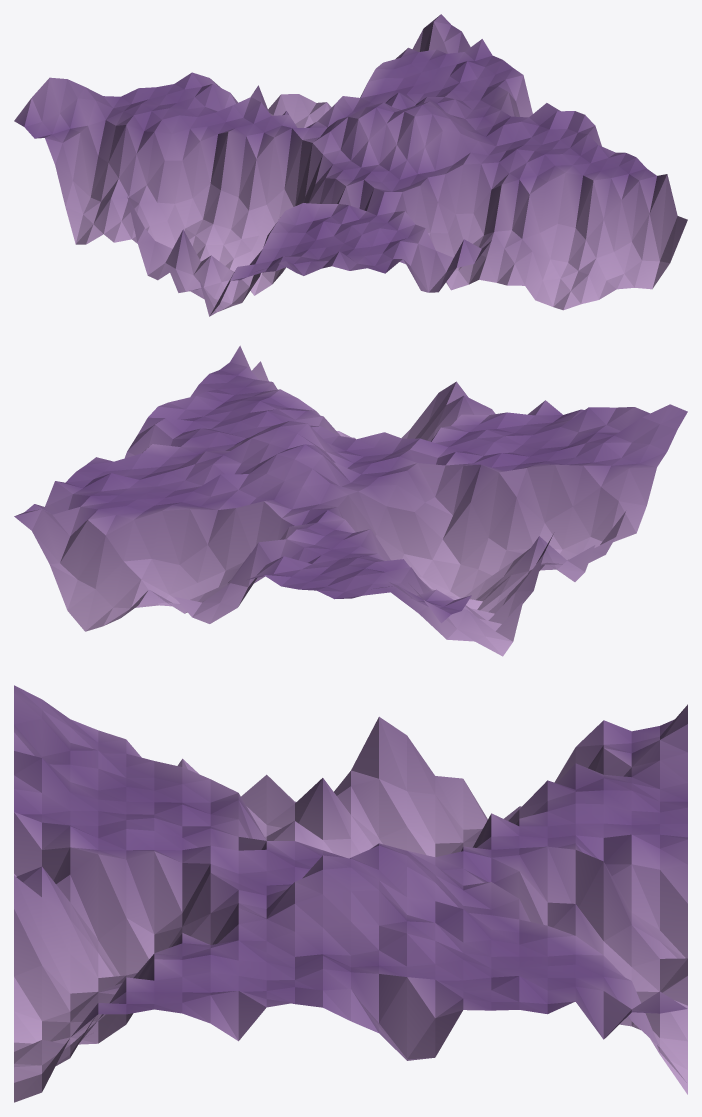
Rendered from alien_lod2.glb.
The picture shows the model from 3 angles, top to bottom: view 1: azimuth 30°, elevation 25°; view 2: azimuth 150°, elevation 25°; view 3: azimuth 270°, elevation 25°; orthographic projection. The views are drawn at different scales.
Parts seen in each view (by area): view 1: world; view 2: world; view 3: world.
Boxes of the visible parts, x1,y1,x2,y2 form: world: (14,14,687,316); world: (14,345,687,656); world: (14,685,687,1102).
Bounding box in the file's own units: 2 × 0.627 × 2.
